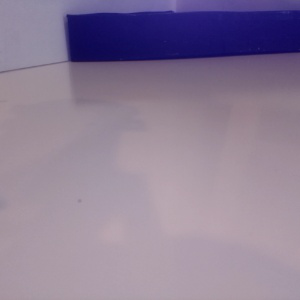zone: (67, 10, 300, 62)
